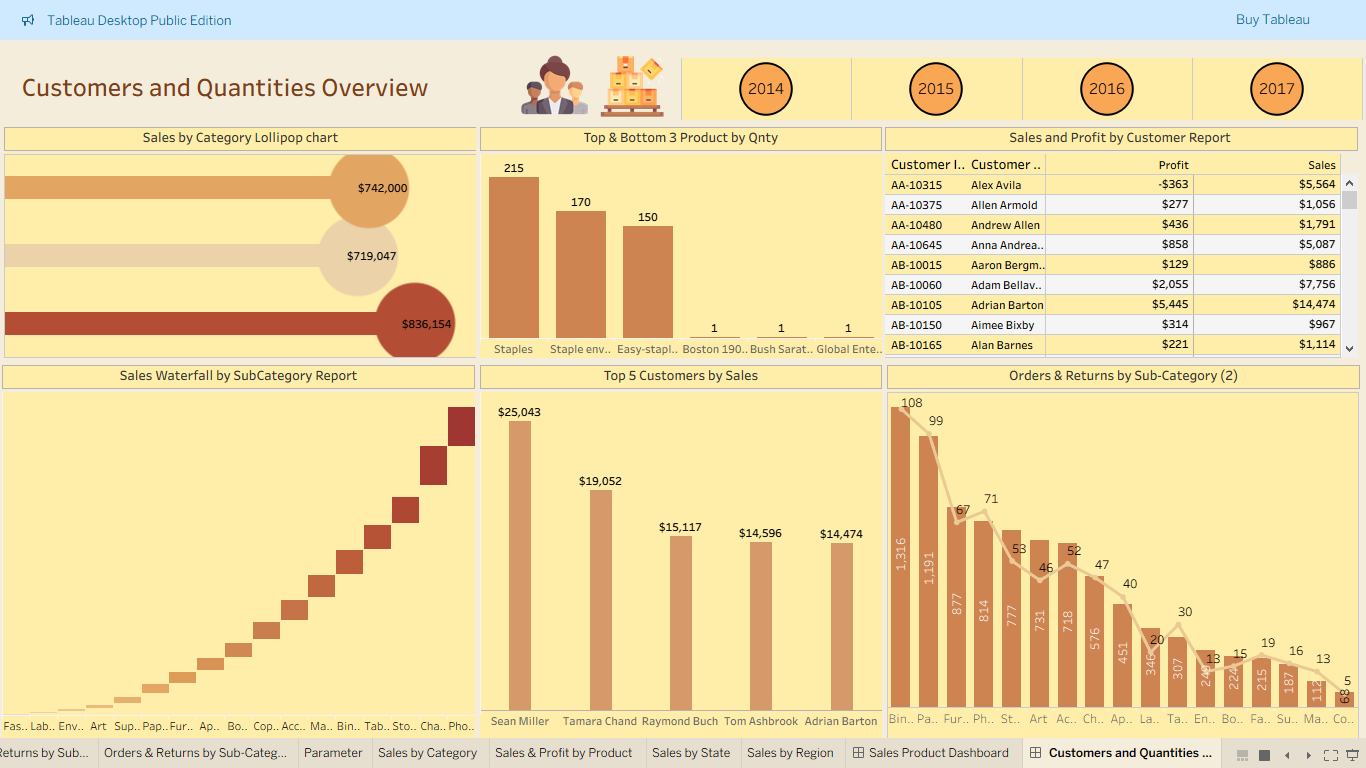

Layout of this report page (visuals, bound fields, positions):
{"tool":"tableau","page":{"name":" Customers and Quantities Overview","canvas":[1000,1000],"units":"permille","ordinal":0},"visuals":[{"type":"dashboard-object","box":[377.2,16.1,58,96.4]},{"type":"title","box":[10.3,18.1,401.2,94.4]},{"type":"dashboard-object","box":[436.9,20.1,51,92.4]},{"type":"worksheet","title":"Years Card","mark":"Shape","cols":["Order Date","Order Date"],"box":[498.7,26.1,499.6,88.4]},{"type":"worksheet","title":"Sales by Category Lollipop chart","mark":"Bar","rows":["Category"],"cols":["Sales","Sales"],"box":[2.6,124.5,346,331.3]},{"type":"worksheet","title":"Top & Bottom 3 Product by Qnty","mark":"Bar","rows":["Quantity"],"cols":["Product Name"],"box":[351.2,124.5,294.1,331.3]},{"type":"worksheet","title":"Sales and Profit by Customer Report ","mark":"Automatic","rows":["Customer ID","Customer Name"],"box":[647.9,124.5,346,331.3]}]}

Visuals, with their boxes on the dashboard's canvas, which has no fixed pixel size, in thousandths of its width and height (x1, y1, x2, y2). These are canvas units, not pixel positions in the 1366x768 screenshot, which may show the page scaled, cropped or inside an application window:
dashboard-object: x1=377 y1=16 x2=435 y2=112
title: x1=10 y1=18 x2=412 y2=112
dashboard-object: x1=437 y1=20 x2=488 y2=112
"Years Card" worksheet (Shape marks): x1=499 y1=26 x2=998 y2=114
"Sales by Category Lollipop chart" worksheet (Bar marks): x1=3 y1=124 x2=349 y2=456
"Top & Bottom 3 Product by Qnty" worksheet (Bar marks): x1=351 y1=124 x2=645 y2=456
"Sales and Profit by Customer Report " worksheet: x1=648 y1=124 x2=994 y2=456
